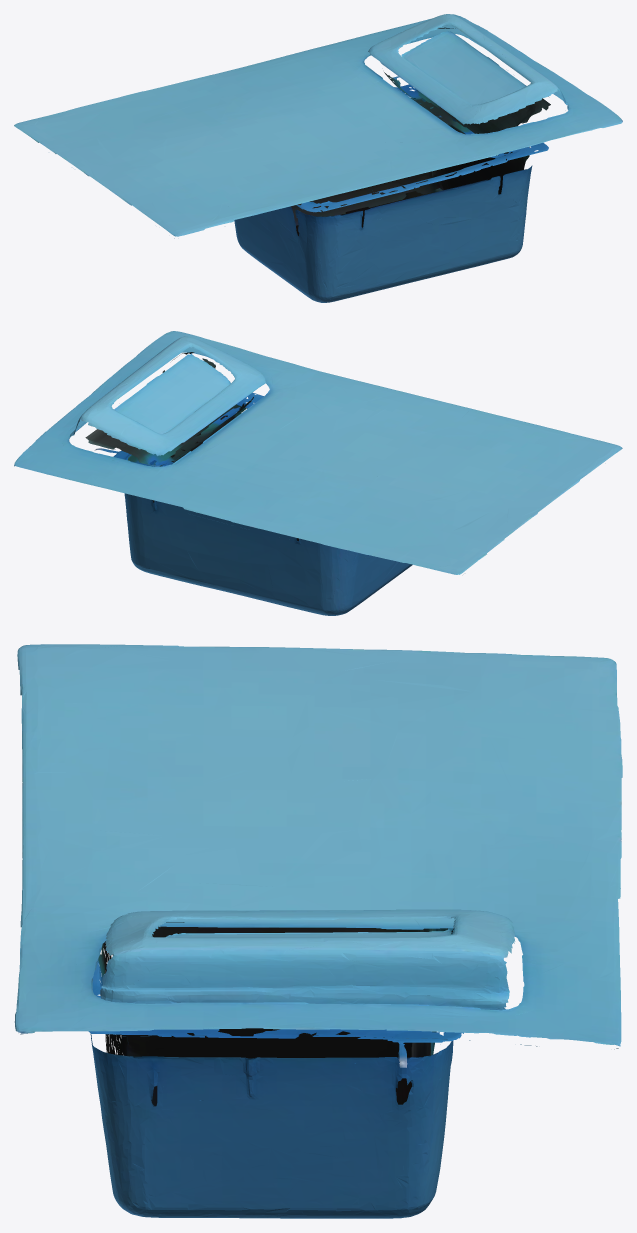
3 views of the same model, one above another, from view 1: azimuth 30°, elevation 25°; view 2: azimuth 150°, elevation 25°; view 3: azimuth 270°, elevation 25° (orthographic). The views are drawn at different scales.
Parts seen in each view (by area): view 1: geometry_0; view 2: geometry_0; view 3: geometry_0.
Part boxes in pixels (box(x1,y1,x2,y2)): geometry_0: box(14, 14, 622, 302); geometry_0: box(14, 331, 622, 615); geometry_0: box(14, 644, 622, 1218).
Bounding box in the file's own units: 0.999 × 0.3552 × 0.6419.
1 material, 1 textured.
